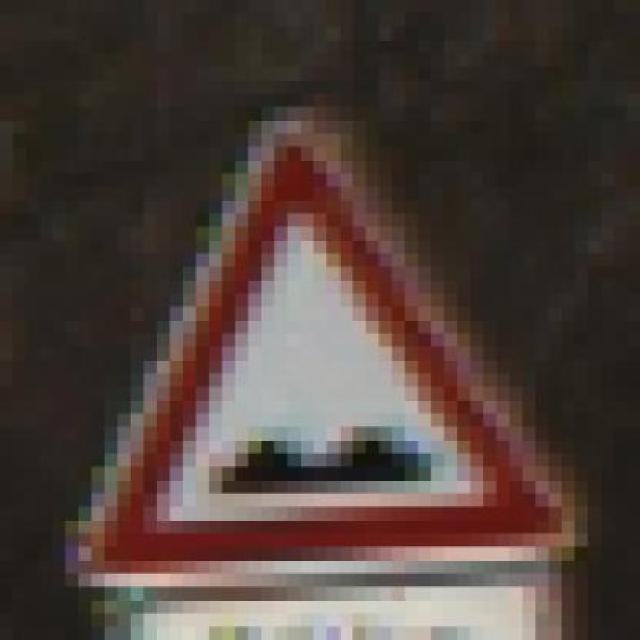Uneven Road: (65, 79, 588, 587)
